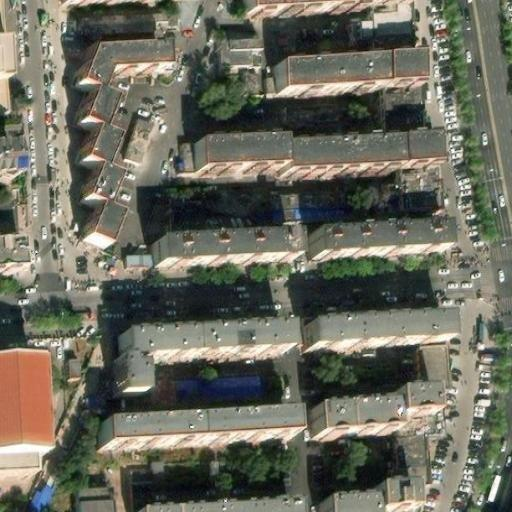building: (77, 48, 164, 245), (116, 326, 291, 396), (385, 342, 448, 512), (199, 137, 439, 176), (103, 410, 298, 444), (317, 388, 436, 434), (278, 59, 420, 95), (306, 315, 448, 349), (0, 355, 39, 474), (154, 237, 291, 269), (316, 224, 448, 257), (180, 363, 274, 391), (325, 486, 415, 512), (24, 461, 67, 512), (386, 87, 423, 140), (393, 168, 433, 215), (79, 14, 156, 36), (357, 11, 415, 38), (126, 114, 156, 163), (134, 504, 292, 512), (0, 135, 27, 179), (0, 235, 31, 273), (231, 37, 263, 70), (382, 35, 419, 60), (78, 489, 117, 512), (133, 482, 158, 512), (127, 252, 156, 271), (0, 73, 12, 113), (65, 357, 83, 381)
